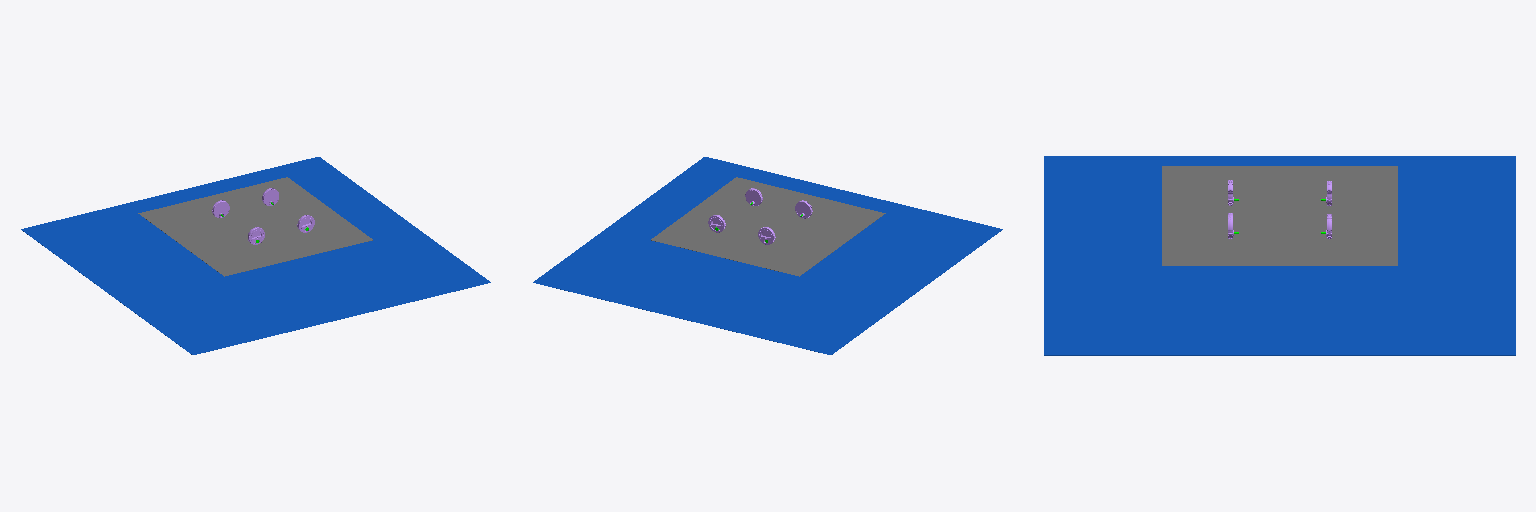
URDF robot description (ASSY):
<?xml version="1.0" encoding="utf-8"?>
<!-- This URDF was automatically created by SolidWorks to URDF Exporter! Originally created by Stephen Brawner (brawner@gmail.com) 
     Commit Version: 1.6.0-4-g7f85cfe  Build Version: 1.6.7995.38578
     For more information, please see http://wiki.ros.org/sw_urdf_exporter -->
<robot name="ASSY">

  <!-- ======================================================================= -->
  <!-- 1. ROOT LINKS & GROUND PLANES (지면 및 기준 평면들 정의)                   -->
  <!-- ======================================================================= -->

  <!-- Ellipsoid Surface (전체 로봇 트리의 최상위 Root Link) -->
  <link name="ellipsoid_surface">
    <visual>
      <origin xyz="0 0 -0.0005" rpy="0 0 0" />
      <geometry>
        <!-- ground_link(1.5m)의 2배 크기인 3.0m로 설정 -->
        <box size="3.0 3.0 0.001" />
      </geometry>
      <material name="ellipsoid_material">
        <color rgba="0.1 0.4 0.8 0.5" />
      </material>
    </visual>
    <collision>
      <origin xyz="0 0 -0.0005" rpy="0 0 0" />
      <geometry>
        <box size="3.0 3.0 0.001" />
      </geometry>
    </collision>
  </link>

  <!-- ellipsoid_surface를 부모로 하여 상위에 ground_link를 띄우는 고정 관절 -->
  <joint name="ellipsoid_surface_joint" type="fixed">
    <!-- ground_link가 로봇 높이(0.28m)만큼 위(Z축 양의 방향)에 위치하도록 설정 -->
    <origin xyz="0 0 0.28" rpy="0 0 0" />
    <parent link="ellipsoid_surface" />
    <child link="ground_link" />
  </joint>

  <!-- Ground Plane (실제 로봇 바퀴가 접지되는 기준면) -->
  <link name="ground_link">
    <visual>
      <origin xyz="0 0 -0.0005" rpy="0 0 0" />
      <geometry>
        <box size="1.5 1.5 0.001" />
      </geometry>
      <material name="ground_material">
        <color rgba="0.5 0.5 0.5 0.6" />
      </material>
    </visual>
    <collision>
      <origin xyz="0 0 -0.0005" rpy="0 0 0" />
      <geometry>
        <box size="1.5 1.5 0.001" />
      </geometry>
    </collision>
  </link>

  <!-- ground_link(지면)를 부모로 하여 base_link를 안착시키는 고정 관절 -->
  <joint name="ground_joint" type="fixed">
    <origin xyz="0.1736 1.3300 0.141158" rpy="0 0 0" />
    <parent link="ground_link" />
    <child link="base_link" />
  </joint>

  <!-- ======================================================================= -->
  <!-- 2. ROBOT BODY                                                           -->
  <!-- ======================================================================= -->

  <link name="base_link">
    <inertial>
      <origin
        xyz="-0.173677988702651 -1.33001645405301 0.127094960664252"
        rpy="0 0 0" />
      <mass
        value="4.36726752622247" />
      <inertia
        ixx="0.120130237589"
        ixy="2.47975488953441E-06"
        ixz="-3.27227207123414E-05"
        iyy="0.191286662671252"
        iyz="2.68102670008558E-10"
        izz="0.301245720968886" />
    </inertial>
    <visual>
      <origin
        xyz="0 0 0"
        rpy="0 0 0" />
      <geometry>
        <mesh
          filename="../meshes/base_link.STL" />
      </geometry>
      <material
        name="">
        <color
          rgba="0.894117647058823 0.894117647058823 0.894117647058823 1" />
      </material>
    </visual>
    <collision>
      <origin
        xyz="0 0 0"
        rpy="0 0 0" />
      <geometry>
        <mesh
          filename="../meshes/base_link.STL" />
      </geometry>
    </collision>
  </link>

  <!-- ======================================================================= -->
  <!-- 3. REAR LEFT DRIVE MODULE (RL)                                          -->
  <!-- ======================================================================= -->

  <link name="wheel_rl">
    <inertial>
      <origin
        xyz="0.000505290609487841 0.0115730269592083 0.00262595144799707"
        rpy="0 0 0" />
      <mass
        value="0.42269955285096" />
      <inertia
        ixx="0.000815542921585711"
        ixy="6.60524034039688E-07"
        ixz="3.86285448095543E-06"
        iyy="0.00159042388409674"
        iyz="3.46784877596443E-06"
        izz="0.000834325692195126" />
    </inertial>
    <visual>
      <origin
        xyz="0 0 0"
        rpy="0 0 0" />
      <geometry>
        <mesh
          filename="../meshes/rear_left_wheel_link.STL" />
      </geometry>
      <material
        name="">
        <color
          rgba="0.796078431372549 0.623529411764706 1 1" />
      </material>
    </visual>
    <collision>
      <origin
        xyz="0 0 0"
        rpy="0 0 0" />
      <geometry>
        <mesh
          filename="../meshes/rear_left_wheel_link.STL" />
      </geometry>
    </collision>
  </link>

  <joint name="wheel_rl_joint" type="continuous">
    <origin
      xyz="-0.34344 -1.0048 -0.061158"
      rpy="3.1416 0.27703 0" />
    <parent
      link="base_link" />
    <child
      link="wheel_rl" />
    <axis
      xyz="0 1 0" />
    <mimic
      joint="pinion_rl_joint"
      multiplier="1"
      offset="0" />
  </joint>

  <link name="pinion_rl">
    <inertial>
      <origin
        xyz="5.68499051833982E-07 7.63716316805052E-05 -0.014980570321381"
        rpy="0 0 0" />
      <mass
        value="0.011032733259644" />
      <inertia
        ixx="4.80829060566522E-06"
        ixy="-3.01977896111619E-11"
        ixz="1.6476444777162E-10"
        iyy="4.8095261776222E-06"
        iyz="-3.00538459560686E-08"
        izz="7.0424678545279E-07" />
    </inertial>
    <visual>
      <origin
        xyz="0 0 0"
        rpy="0 0 0" />
      <geometry>
        <mesh
          filename="../meshes/rear_left_pinion_link.STL" />
      </geometry>
      <material
        name="">
        <color
          rgba="0 1 0 1" />
      </material>
    </visual>
    <collision>
      <origin
        xyz="0 0 0"
        rpy="0 0 0" />
      <geometry>
        <mesh
          filename="../meshes/rear_left_pinion_link.STL" />
      </geometry>
    </collision>
  </link>

  <joint name="pinion_rl_joint" type="continuous">
    <origin
      xyz="-0.34769 -1.0078 -0.10897"
      rpy="1.5708 0.059958 -3.1416" />
    <parent
      link="base_link" />
    <child
      link="pinion_rl" />
    <axis
      xyz="0 1 0" />
  </joint>

  <!-- ======================================================================= -->
  <!-- 4. REAR RIGHT DRIVE MODULE (RR)                                         -->
  <!-- ======================================================================= -->

  <link name="wheel_rr">
    <inertial>
      <origin
        xyz="0.000505290609487785 0.0115730269592078 0.00262595144799672"
        rpy="0 0 0" />
      <mass
        value="0.422699552850961" />
      <inertia
        ixx="0.00081554292158571"
        ixy="6.60524034037478E-07"
        ixz="3.86285448095634E-06"
        iyy="0.00159042388409674"
        iyz="3.4678487759639E-06"
        izz="0.000834325692195128" />
    </inertial>
    <visual>
      <origin
        xyz="0 0 0"
        rpy="0 0 0" />
      <geometry>
        <mesh
          filename="../meshes/rear_right_wheel_link.STL" />
      </geometry>
      <material
        name="">
        <color
          rgba="0.796078431372549 0.623529411764706 1 1" />
      </material>
    </visual>
    <collision>
      <origin
        xyz="0 0 0"
        rpy="0 0 0" />
      <geometry>
        <mesh
          filename="../meshes/rear_right_wheel_link.STL" />
      </geometry>
    </collision>
  </link>

  <joint name="wheel_rr_joint" type="continuous">
    <origin
      xyz="-0.35193 -1.6553 -0.061158"
      rpy="3.1416 0.27703 3.1416" />
    <parent
      link="base_link" />
    <child
      link="wheel_rr" />
    <axis
      xyz="0 1 0" />
    <mimic
      joint="pinion_rr_joint"
      multiplier="1"
      offset="0" />
  </joint>

  <link name="pinion_rr">
    <inertial>
      <origin
        xyz="5.68499051833982E-07 7.63716316804774E-05 -0.0149805703213808"
        rpy="0 0 0" />
      <mass
        value="0.011032733259644" />
      <inertia
        ixx="4.80829060566523E-06"
        ixy="-3.01977896111354E-11"
        ixz="1.6476444777162E-10"
        iyy="4.80952617762221E-06"
        iyz="-3.0053845956065E-08"
        izz="7.04246785452792E-07" />
    </inertial>
    <visual>
      <origin
        xyz="0 0 0"
        rpy="0 0 0" />
      <geometry>
        <mesh
          filename="../meshes/rear_right_pinion_link.STL" />
      </geometry>
      <material
        name="">
        <color
          rgba="0 1 0 1" />
      </material>
    </visual>
    <collision>
      <origin
        xyz="0 0 0"
        rpy="0 0 0" />
      <geometry>
        <mesh
          filename="../meshes/rear_right_pinion_link.STL" />
      </geometry>
    </collision>
  </link>

  <joint name="pinion_rr_joint" type="continuous">
    <origin
      xyz="-0.34769 -1.6523 -0.10897"
      rpy="1.5708 0.059958 0" />
    <parent
      link="base_link" />
    <child
      link="pinion_rr" />
    <axis
      xyz="0 1 0" />
  </joint>

  <!-- ======================================================================= -->
  <!-- 5. SUSPENSION SYSTEM (SWING LINK)                                       -->
  <!-- ======================================================================= -->

  <link name="swing_link">
    <inertial>
      <origin
        xyz="-0.0273355916599196 -0.0287903676176555 2.89047470403148E-08"
        rpy="0 0 0" />
      <mass
        value="1.44344385546095" />
      <inertia
        ixx="0.00529337280544807"
        ixy="-3.64864364493946E-06"
        ixz="-2.47940932052328E-06"
        iyy="0.00598687173593352"
        iyz="5.36206178033747E-10"
        izz="0.00290322324927834" />
    </inertial>
    <visual>
      <origin
        xyz="0 0 0"
        rpy="0 0 0" />
      <geometry>
        <mesh
          filename="../meshes/swing_Link.STL" />
      </geometry>
      <material
        name="">
        <color
          rgba="0.894117647058823 0.894117647058823 0.894117647058823 1" />
      </material>
    </visual>
    <collision>
      <origin
        xyz="0 0 0"
        rpy="0 0 0" />
      <geometry>
        <mesh
          filename="../meshes/swing_Link.STL" />
      </geometry>
    </collision>
  </link>

  <joint name="swing_joint" type="continuous">
    <origin
      xyz="0.15231 -1.33 0.02403"
      rpy="1.5708 0 0" />
    <parent
      link="base_link" />
    <child
      link="swing_link" />
    <axis
      xyz="0 0 0" />
    <limit
      lower="0"
      upper="0"
      effort="0"
      velocity="0" />
  </joint>

  <!-- ======================================================================= -->
  <!-- 6. FRONT LEFT DRIVE MODULE (FL)                                         -->
  <!-- ======================================================================= -->

  <link name="wheel_fl">
    <inertial>
      <origin
        xyz="0.000505290609487868 0.011573026959208 0.00262595144799711"
        rpy="0 0 0" />
      <mass
        value="0.422699552850964" />
      <inertia
        ixx="0.000815542921585712"
        ixy="6.60524034037467E-07"
        ixz="3.86285448095665E-06"
        iyy="0.00159042388409675"
        iyz="3.46784877596432E-06"
        izz="0.000834325692195135" />
    </inertial>
    <visual>
      <origin
        xyz="0 0 0"
        rpy="0 0 0" />
      <geometry>
        <mesh
          filename="../meshes/front_left_wheel_link.STL" />
      </geometry>
      <material
        name="">
        <color
          rgba="0.796078431372549 0.623529411764706 1 1" />
      </material>
    </visual>
    <collision>
      <origin
        xyz="0 0 0"
        rpy="0 0 0" />
      <geometry>
        <mesh
          filename="../meshes/front_left_wheel_link.STL" />
      </geometry>
    </collision>
  </link>

  <joint name="wheel_fl_joint" type="continuous">
    <origin
      xyz="0.0042466 -0.085188 -0.32525"
      rpy="1.5708 0 -0.27703" />
    <parent
      link="swing_link" />
    <child
      link="wheel_fl" />
    <axis
      xyz="0 1 0" />
    <mimic
      joint="pinion_fl_joint"
      multiplier="1"
      offset="0" />
  </joint>

  <link name="pinion_fl">
    <inertial>
      <origin
        xyz="5.68499051861737E-07 7.63716316805052E-05 -0.0149805703213808"
        rpy="0 0 0" />
      <mass
        value="0.0110327332596441" />
      <inertia
        ixx="4.80829060566525E-06"
        ixy="-3.01977896109501E-11"
        ixz="1.6476444779217E-10"
        iyy="4.80952617762223E-06"
        iyz="-3.00538459560686E-08"
        izz="7.04246785452799E-07" />
    </inertial>
    <visual>
      <origin
        xyz="0 0 0"
        rpy="0 0 0" />
      <geometry>
        <mesh
          filename="../meshes/front_left_pinion_link.STL" />
      </geometry>
      <material
        name="">
        <color
          rgba="0 1 0 1" />
      </material>
    </visual>
    <collision>
      <origin
        xyz="0 0 0"
        rpy="0 0 0" />
      <geometry>
        <mesh
          filename="../meshes/front_left_pinion_link.STL" />
      </geometry>
    </collision>
  </link>

  <joint name="pinion_fl_joint" type="continuous">
    <origin
      xyz="0 -0.133 -0.32225"
      rpy="3.1416 0 -3.0816" />
    <parent
      link="swing_link" />
    <child
      link="pinion_fl" />
    <axis
      xyz="0 1 0" />
  </joint>

  <!-- ======================================================================= -->
  <!-- 7. FRONT RIGHT DRIVE MODULE (FR)                                        -->
  <!-- ======================================================================= -->

  <link name="wheel_fr">
    <inertial>
      <origin
        xyz="0.000505290609487896 0.011573026959208 0.00262595144799699"
        rpy="0 0 0" />
      <mass
        value="0.422699552850966" />
      <inertia
        ixx="0.000815542921585718"
        ixy="6.60524034035726E-07"
        ixz="3.86285448095394E-06"
        iyy="0.00159042388409675"
        iyz="3.46784877596481E-06"
        izz="0.000834325692195138" />
    </inertial>
    <visual>
      <origin
        xyz="0 0 0"
        rpy="0 0 0" />
      <geometry>
        <mesh
          filename="../meshes/front_right_wheel_link.STL" />
      </geometry>
      <material
        name="">
        <color
          rgba="0.796078431372549 0.623529411764706 1 1" />
      </material>
    </visual>
    <collision>
      <origin
        xyz="0 0 0"
        rpy="0 0 0" />
      <geometry>
        <mesh
          filename="../meshes/front_right_wheel_link.STL" />
      </geometry>
    </collision>
  </link>

  <joint name="wheel_fr_joint" type="continuous">
    <origin
      xyz="-0.0042466 -0.085188 0.32525"
      rpy="-1.5708 0 -2.8646" />
    <parent
      link="swing_link" />
    <child
      link="wheel_fr" />
    <axis
      xyz="0 1 0" />
    <mimic
      joint="pinion_fr_joint"
      multiplier="1"
      offset="0" />
  </joint>

  <link name="pinion_fr">
    <inertial>
      <origin
        xyz="5.68499051889493E-07 7.63716316805052E-05 -0.0149805703213812"
        rpy="0 0 0" />
      <mass
        value="0.011032733259644" />
      <inertia
        ixx="4.80829060566523E-06"
        ixy="-3.01977896117177E-11"
        ixz="1.64764447804069E-10"
        iyy="4.80952617762221E-06"
        iyz="-3.00538459560664E-08"
        izz="7.04246785452794E-07" />
    </inertial>
    <visual>
      <origin
        xyz="0 0 0"
        rpy="0 0 0" />
      <geometry>
        <mesh
          filename="../meshes/front_right_pinion_link.STL" />
      </geometry>
      <material
        name="">
        <color
          rgba="0 1 0 1" />
      </material>
    </visual>
    <collision>
      <origin
        xyz="0 0 0"
        rpy="0 0 0" />
      <geometry>
        <mesh
          filename="../meshes/front_right_pinion_link.STL" />
      </geometry>
    </collision>
  </link>

  <joint name="pinion_fr_joint" type="continuous">
    <origin
      xyz="0 -0.133 0.32225"
      rpy="0 0 -0.059958" />
    <parent
      link="swing_link" />
    <child
      link="pinion_fr" />
    <axis
      xyz="0 1 0" />
  </joint>

</robot>

--- What the picture shows (computed from the rendered views, not written in the file) ---
The picture shows the robot from 3 angles, left to right: view 1: azimuth 30°, elevation 25°; view 2: azimuth 150°, elevation 25°; view 3: azimuth 270°, elevation 25°; orthographic projection.
Model ASSY with 12 links and 11 joints (9 continuous, 2 fixed), rooted at ellipsoid_surface, posed every joint at zero.
Visible links, largest first — view 1: ellipsoid_surface, ground_link; view 2: ellipsoid_surface, ground_link; view 3: ellipsoid_surface, ground_link.
Boxes of the visible links, x1,y1,x2,y2 form: ellipsoid_surface: [21, 157, 490, 354]; ground_link: [138, 177, 372, 276]; ellipsoid_surface: [533, 157, 1002, 354]; ground_link: [651, 177, 885, 276]; ellipsoid_surface: [1044, 156, 1515, 355]; ground_link: [1162, 166, 1397, 265].
Size in the robot's own frame: 3 by 3 by 0.4419 metres.
Meshes: 10 distinct files referenced, 8 mesh visuals loaded (8 binary STL); not drawn: 2 (reference not matched to a file when rendering).
